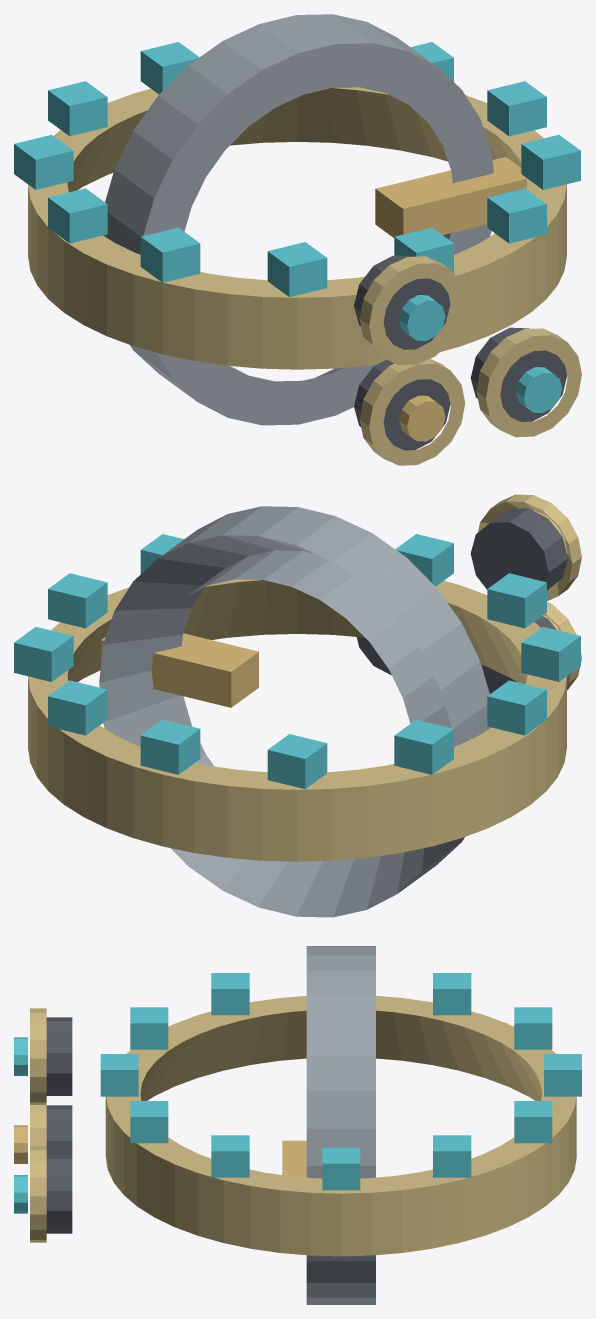
Rendered from 36_L82_TurntableAzimuthEncoder.glb.
The picture shows the model from 3 angles, top to bottom: view 1: azimuth 30°, elevation 25°; view 2: azimuth 150°, elevation 25°; view 3: azimuth 270°, elevation 25°; orthographic projection. The views are drawn at different scales.
Parts seen in each view (by area): view 1: TurntableAzimuthEncoder_Node_0000, TurntableAzimuthEncoder_Node_0013, TurntableAzimuthEncoder_Node_0014, TurntableAzimuthEncoder_Node_0022, TurntableAzimuthEncoder_Node_0019, TurntableAzimuthEncoder_Node_0016, TurntableAzimuthEncoder_Node_0021, TurntableAzimuthEncoder_Node_0018, TurntableAzimuthEncoder_Node_0015, TurntableAzimuthEncoder_Node_0005, TurntableAzimuthEncoder_Node_0006, TurntableAzimuthEncoder_Node_0003 (+11 smaller); view 2: TurntableAzimuthEncoder_Node_0000, TurntableAzimuthEncoder_Node_0013, TurntableAzimuthEncoder_Node_0014, TurntableAzimuthEncoder_Node_0021, TurntableAzimuthEncoder_Node_0009, TurntableAzimuthEncoder_Node_0010, TurntableAzimuthEncoder_Node_0001, TurntableAzimuthEncoder_Node_0005, TurntableAzimuthEncoder_Node_0007, TurntableAzimuthEncoder_Node_0011, TurntableAzimuthEncoder_Node_0008, TurntableAzimuthEncoder_Node_0012 (+6 smaller); view 3: TurntableAzimuthEncoder_Node_0000, TurntableAzimuthEncoder_Node_0013, TurntableAzimuthEncoder_Node_0018, TurntableAzimuthEncoder_Node_0021, TurntableAzimuthEncoder_Node_0001, TurntableAzimuthEncoder_Node_0002, TurntableAzimuthEncoder_Node_0004, TurntableAzimuthEncoder_Node_0005, TurntableAzimuthEncoder_Node_0006, TurntableAzimuthEncoder_Node_0009, TurntableAzimuthEncoder_Node_0012, TurntableAzimuthEncoder_Node_0003 (+11 smaller).
Part boxes in pixels (bbox=[...]): TurntableAzimuthEncoder_Node_0000: bbox=[28, 87, 566, 369]; TurntableAzimuthEncoder_Node_0013: bbox=[103, 14, 493, 425]; TurntableAzimuthEncoder_Node_0014: bbox=[375, 157, 527, 237]; TurntableAzimuthEncoder_Node_0022: bbox=[359, 256, 465, 364]; TurntableAzimuthEncoder_Node_0019: bbox=[476, 328, 581, 437]; TurntableAzimuthEncoder_Node_0016: bbox=[359, 359, 465, 465]; TurntableAzimuthEncoder_Node_0021: bbox=[354, 255, 450, 349]; TurntableAzimuthEncoder_Node_0018: bbox=[470, 327, 566, 421]; TurntableAzimuthEncoder_Node_0015: bbox=[354, 359, 450, 450]; TurntableAzimuthEncoder_Node_0005: bbox=[267, 242, 327, 297]; TurntableAzimuthEncoder_Node_0006: bbox=[140, 227, 200, 282]; TurntableAzimuthEncoder_Node_0003: bbox=[487, 188, 546, 243]; TurntableAzimuthEncoder_Node_0000: bbox=[28, 579, 566, 861]; TurntableAzimuthEncoder_Node_0013: bbox=[99, 506, 491, 917]; TurntableAzimuthEncoder_Node_0014: bbox=[101, 633, 258, 707]; TurntableAzimuthEncoder_Node_0021: bbox=[470, 508, 567, 589]; TurntableAzimuthEncoder_Node_0009: bbox=[267, 734, 327, 789]; TurntableAzimuthEncoder_Node_0010: bbox=[140, 719, 200, 774]; TurntableAzimuthEncoder_Node_0001: bbox=[48, 573, 107, 628]; TurntableAzimuthEncoder_Node_0005: bbox=[487, 573, 546, 628]; TurntableAzimuthEncoder_Node_0007: bbox=[487, 680, 546, 735]; TurntableAzimuthEncoder_Node_0011: bbox=[48, 680, 107, 735]; TurntableAzimuthEncoder_Node_0008: bbox=[394, 719, 453, 774]; TurntableAzimuthEncoder_Node_0012: bbox=[14, 627, 73, 681]; TurntableAzimuthEncoder_Node_0000: bbox=[105, 995, 576, 1256]; TurntableAzimuthEncoder_Node_0013: bbox=[306, 946, 375, 1304]; TurntableAzimuthEncoder_Node_0018: bbox=[46, 1155, 72, 1233]; TurntableAzimuthEncoder_Node_0021: bbox=[46, 1017, 72, 1095]; TurntableAzimuthEncoder_Node_0001: bbox=[322, 1147, 360, 1190]; TurntableAzimuthEncoder_Node_0002: bbox=[211, 1135, 249, 1177]; TurntableAzimuthEncoder_Node_0004: bbox=[100, 1054, 138, 1096]; TurntableAzimuthEncoder_Node_0005: bbox=[130, 1007, 168, 1049]; TurntableAzimuthEncoder_Node_0006: bbox=[211, 973, 249, 1015]; TurntableAzimuthEncoder_Node_0009: bbox=[514, 1007, 552, 1049]; TurntableAzimuthEncoder_Node_0012: bbox=[433, 1135, 471, 1177]; TurntableAzimuthEncoder_Node_0003: bbox=[130, 1101, 168, 1143].
Size of the model in its own units: 0.695 by 0.5172 by 0.82.
